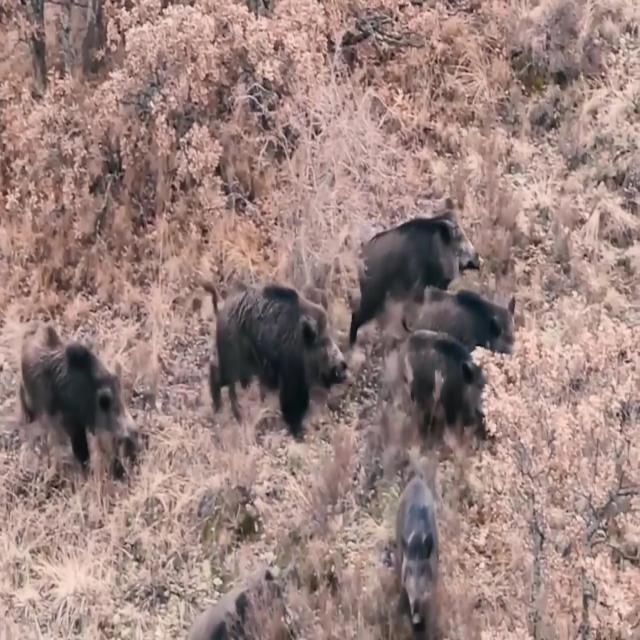pig: (337, 194, 487, 344), (215, 273, 343, 435)
